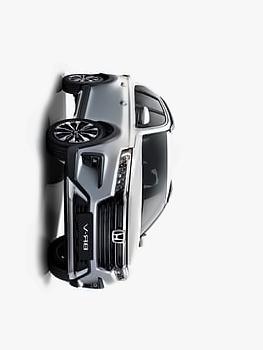Car hood: (125, 132, 144, 272)
Driver-s door - -F-R-: (82, 98, 172, 135)
Fender - -F-R-: (67, 119, 140, 151)
Front bumper: (61, 140, 115, 293)
Headlight - -L-: (109, 261, 132, 283)
Headlight - -R-: (111, 147, 135, 199)
Passenger-s door - -R-R-: (82, 78, 167, 107)
Side bumper - -R-: (72, 83, 96, 123)
Side mirror - -L-: (135, 229, 149, 252)
Side mirror - -R-: (135, 102, 154, 130)
